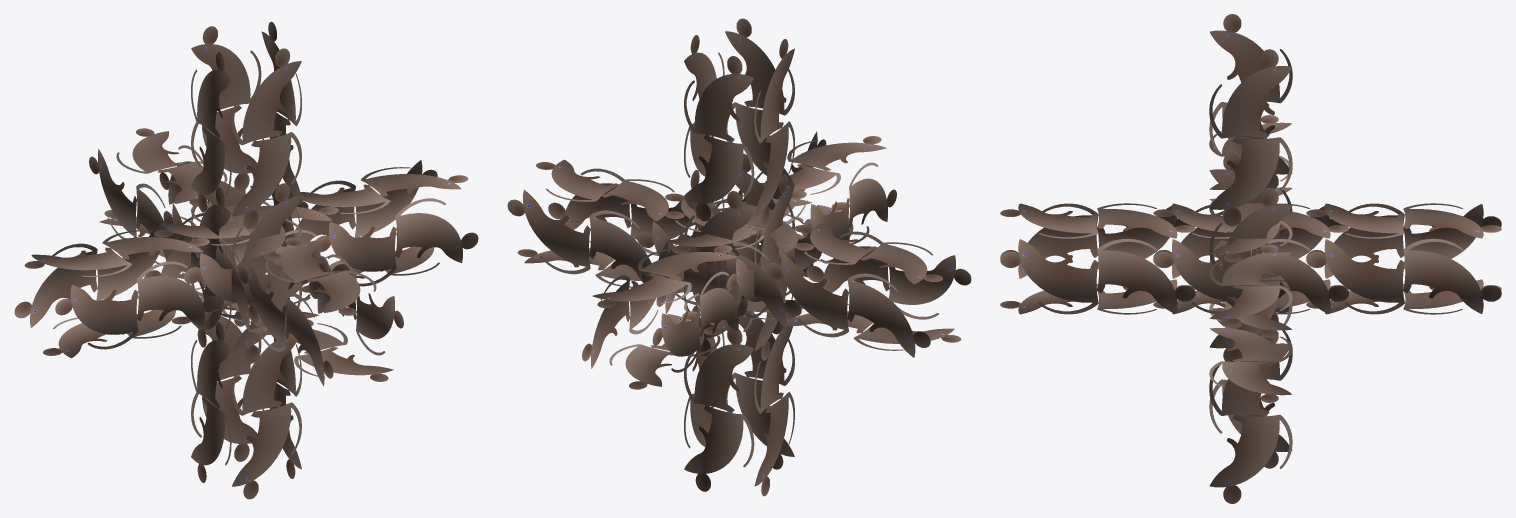
File: Tetrahemihexacron28.gltf
The picture shows the model from 3 angles, left to right: view 1: azimuth 30°, elevation 25°; view 2: azimuth 150°, elevation 25°; view 3: azimuth 270°, elevation 25°; orthographic projection. The views are drawn at different scales.
Parts seen in each view (by area): view 1: Tetrahemihexacron1; view 2: Tetrahemihexacron1; view 3: Tetrahemihexacron1.
Part boxes in pixels (bbox=[...]): Tetrahemihexacron1: bbox=[14, 21, 478, 499]; Tetrahemihexacron1: bbox=[507, 18, 971, 496]; Tetrahemihexacron1: bbox=[1000, 14, 1501, 503].
Size of the model in its own units: 6 by 6 by 6.
1 material, 1 textured.
